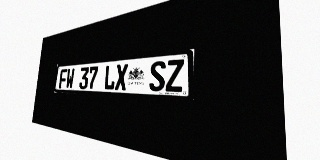3: (79, 67, 89, 89)
7: (87, 66, 98, 89)
F: (59, 69, 67, 89)
L: (103, 65, 116, 90)
S: (149, 60, 166, 91)
W: (65, 68, 75, 89)
X: (115, 64, 128, 90)
Z: (165, 59, 184, 92)
